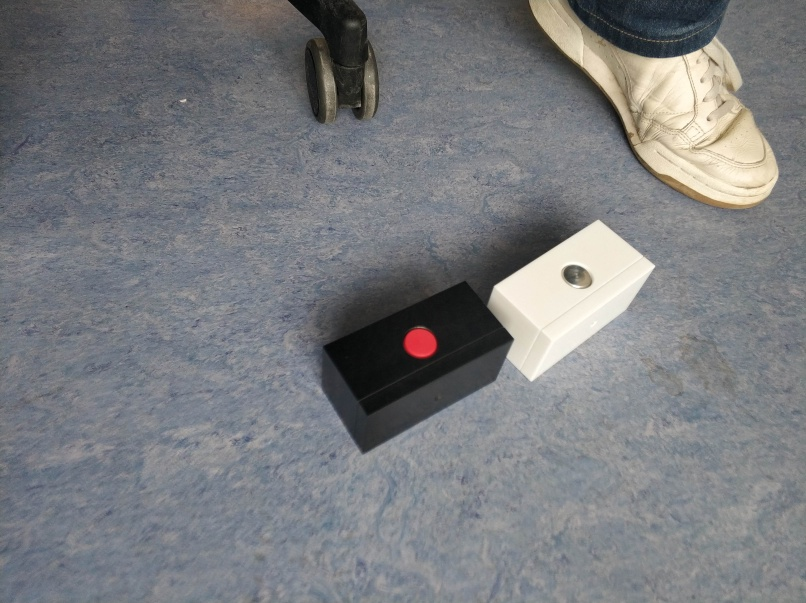black+black+red: (320, 277, 516, 458)
white+white+silver: (489, 217, 658, 386)
